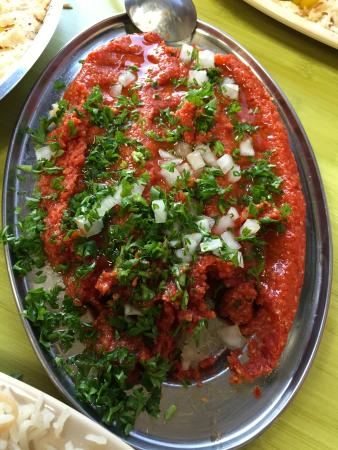ground_beef: (67, 62, 295, 367)
